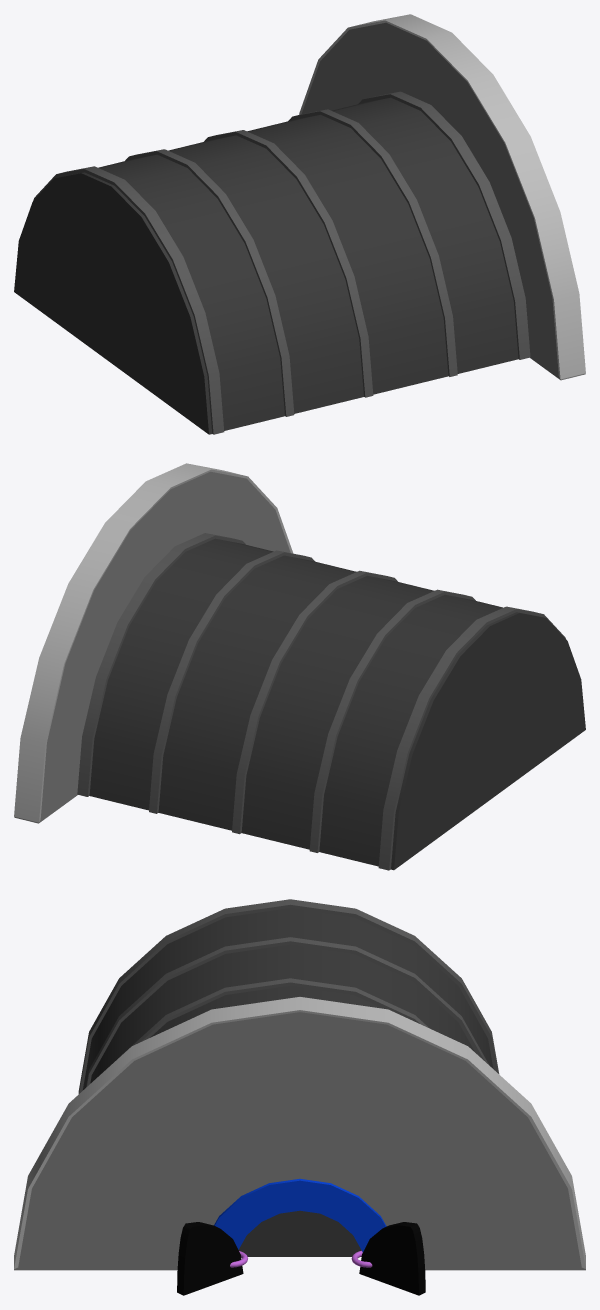
File: HDDRecords.fbx
The picture shows the model from 3 angles, top to bottom: view 1: azimuth 30°, elevation 25°; view 2: azimuth 150°, elevation 25°; view 3: azimuth 270°, elevation 25°; orthographic projection. The views are drawn at different scales.
Parts seen in each view (by area): view 1: pasted__pCylinder1; view 2: pasted__pCylinder1; view 3: pasted__pCylinder1.
Part boxes in pixels (x1=…): pasted__pCylinder1: x1=14, y1=14, x2=585, y2=434; pasted__pCylinder1: x1=14, y1=463, x2=585, y2=870; pasted__pCylinder1: x1=14, y1=899, x2=585, y2=1295.
Bounding box in the file's own units: 6.94 × 4.1 × 8.15.
